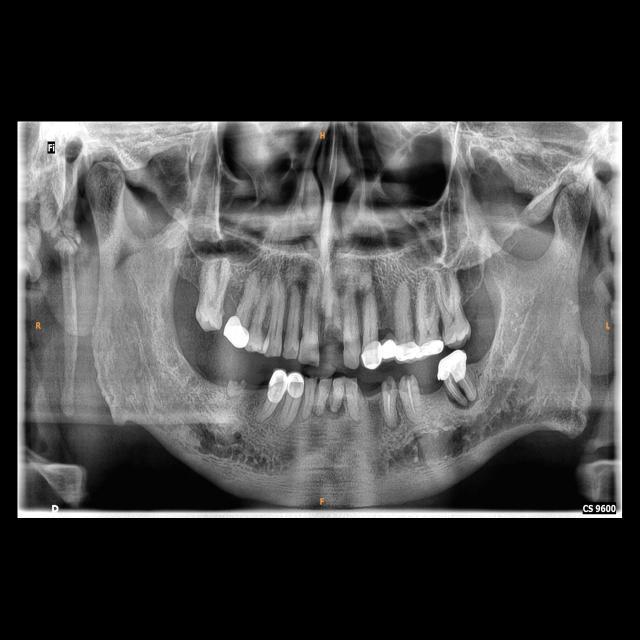kanal-tedavisi: (404, 380, 418, 414), (382, 388, 395, 421), (443, 379, 462, 401), (462, 377, 475, 397)
kaplama: (218, 311, 252, 352), (436, 349, 470, 379), (262, 368, 289, 403), (416, 334, 446, 357), (359, 343, 382, 372), (285, 370, 305, 398), (396, 342, 421, 362)
kirik: (378, 369, 421, 395)
kok-enfeksiyonu: (444, 388, 484, 417)
kopru: (373, 332, 404, 362)
